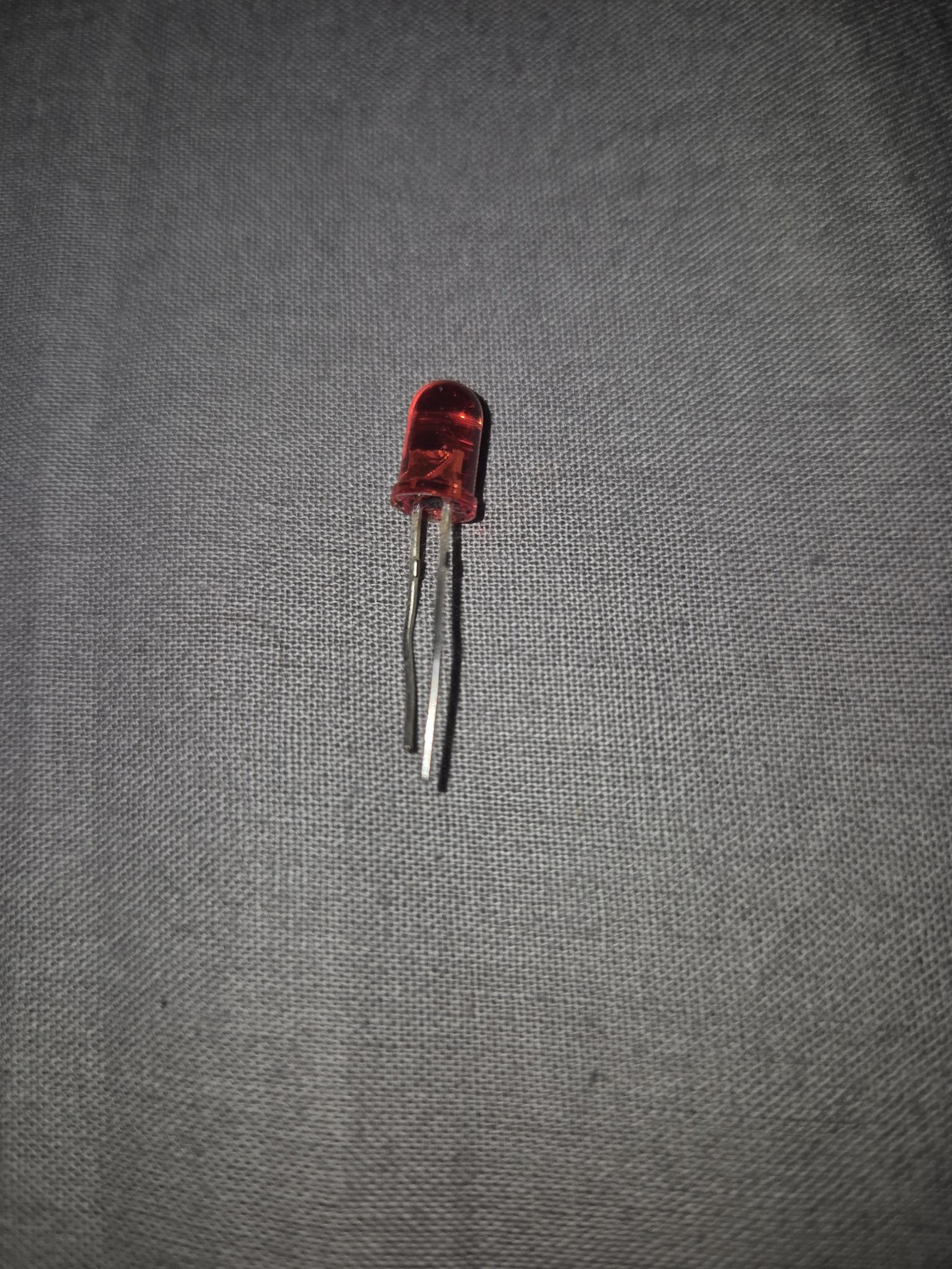led-diode: (389, 380, 493, 791)
